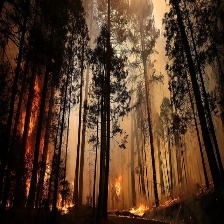fire: (21, 79, 39, 137), (57, 190, 76, 214), (40, 157, 52, 192), (127, 202, 150, 218), (112, 175, 124, 198), (160, 198, 181, 209), (26, 167, 32, 200)
smoke: (129, 9, 176, 158), (66, 86, 99, 170)
